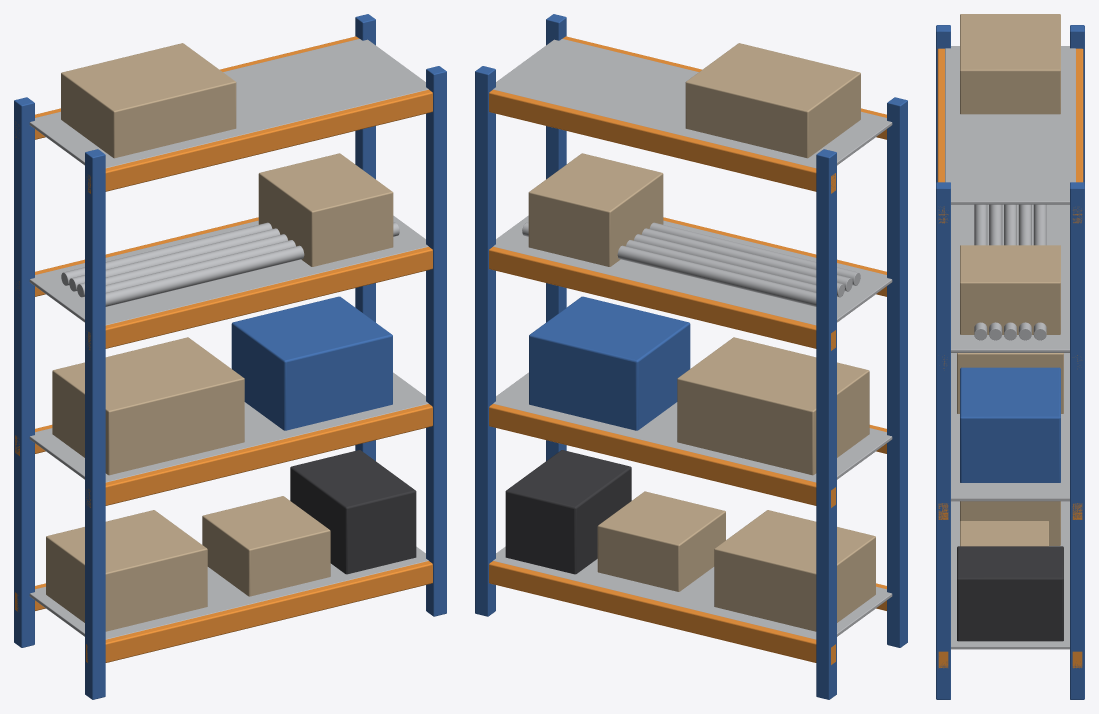
Rendered from shelf.glb.
3 views of the same model, side by side, from view 1: azimuth 30°, elevation 25°; view 2: azimuth 150°, elevation 25°; view 3: azimuth 270°, elevation 25° (orthographic). The views are drawn at different scales.
Parts seen in each view (by area): view 1: shelf; view 2: shelf; view 3: shelf.
Part boxes in pixels (bbox=[...]): shelf: bbox=[14, 14, 446, 699]; shelf: bbox=[475, 14, 907, 699]; shelf: bbox=[936, 14, 1084, 699].
Size of the model in its own units: 1.3 by 2 by 0.5.
